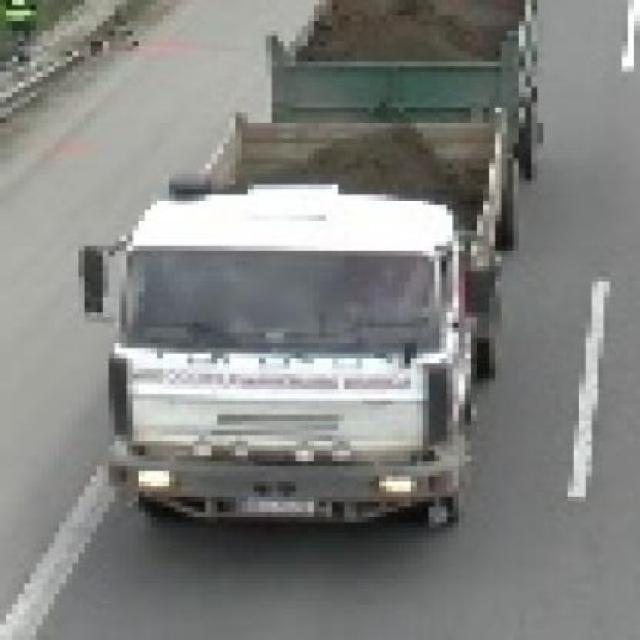truck: (86, 1, 563, 544)
